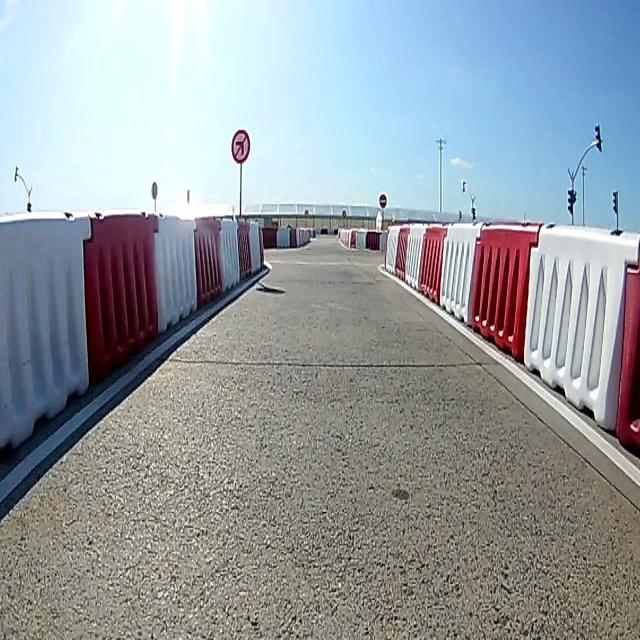girisyok: (378, 190, 388, 209)
soladonulmez: (230, 128, 250, 162)
